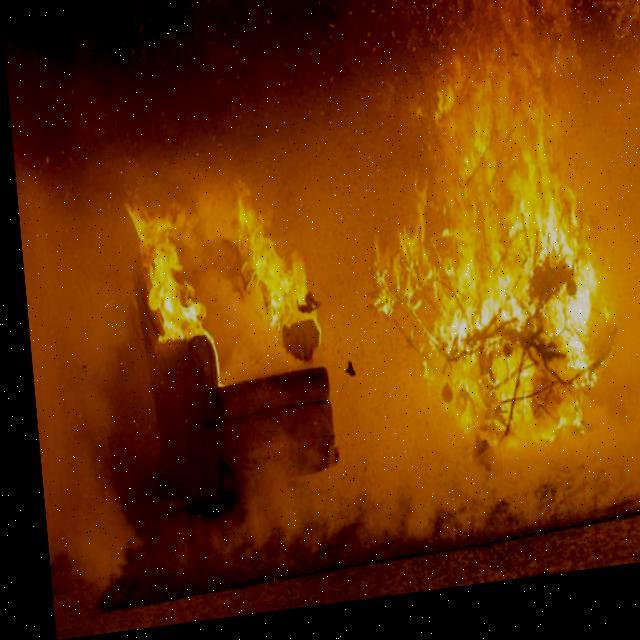Fire: (367, 94, 602, 466), (121, 180, 326, 384)
